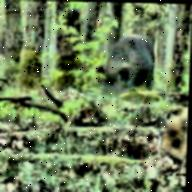boar: (99, 31, 163, 108)
